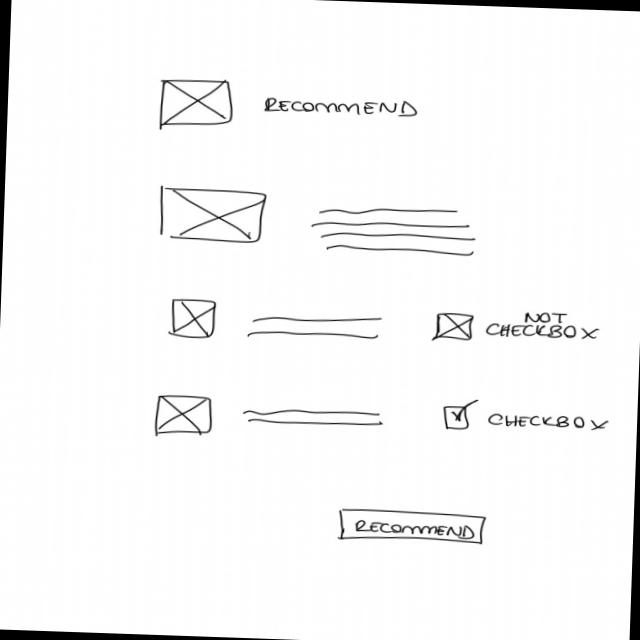button: (338, 508, 491, 547)
checkbox: (441, 398, 614, 437)
image: (156, 186, 267, 247), (158, 77, 236, 133), (154, 395, 215, 439), (169, 297, 220, 341), (436, 311, 477, 343)
label: (261, 95, 420, 121), (484, 309, 605, 343)
textbox: (309, 202, 479, 258), (244, 312, 385, 348), (240, 406, 385, 431)
